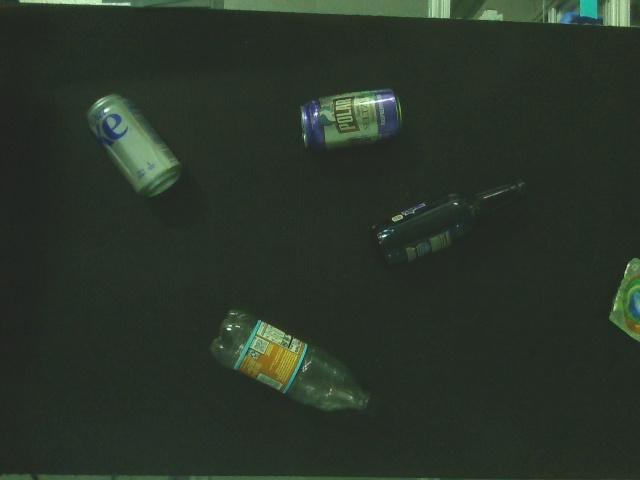glass: (370, 176, 536, 268)
metal: (84, 90, 188, 200), (298, 87, 406, 155)
plastic: (209, 306, 378, 415), (607, 256, 640, 342)
